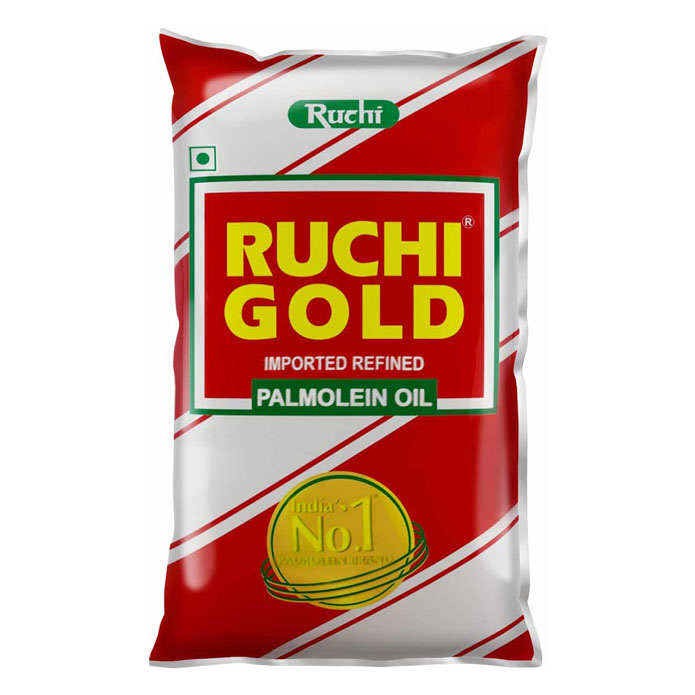VEG: (187, 144, 217, 175)
